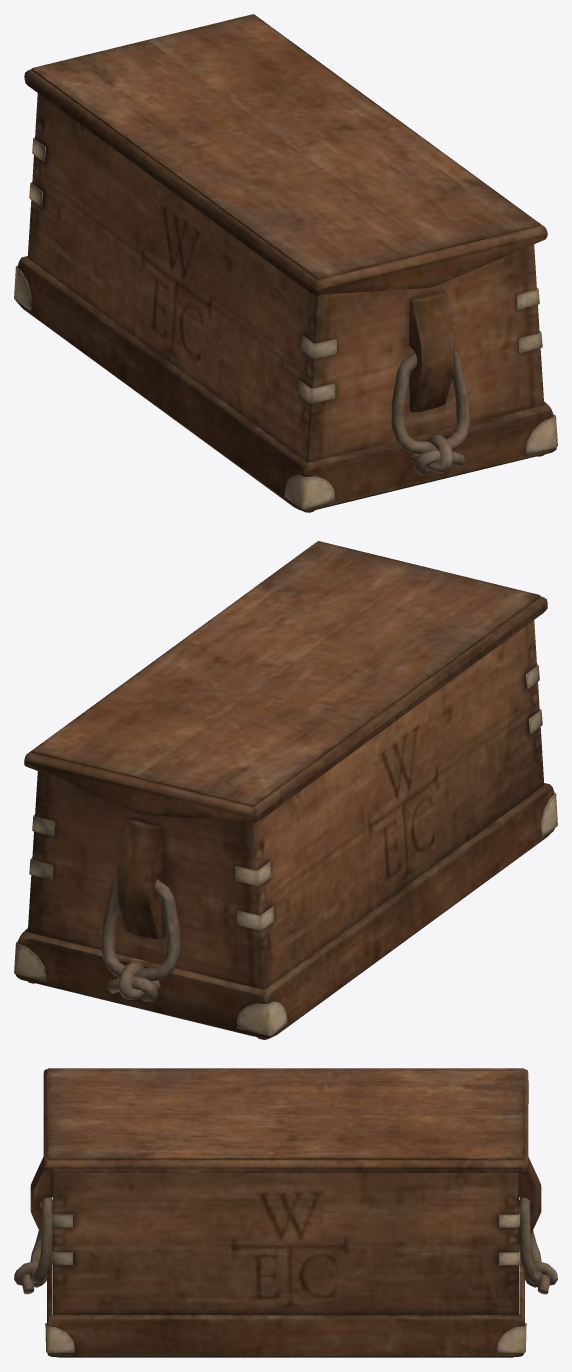
File: crate_b.glb
3 views of the same model, one above another, from view 1: azimuth 30°, elevation 25°; view 2: azimuth 150°, elevation 25°; view 3: azimuth 270°, elevation 25° (orthographic). The views are drawn at different scales.
Parts seen in each view (by area): view 1: crate_b; view 2: crate_b; view 3: crate_b.
Boxes of the visible parts, x1=… form: crate_b: x1=14, y1=14, x2=557, y2=512; crate_b: x1=14, y1=541, x2=557, y2=1039; crate_b: x1=14, y1=1068, x2=557, y2=1357.
Size of the model in its own units: 0.5702 by 0.5001 by 1.26.
1 material, 1 textured.
